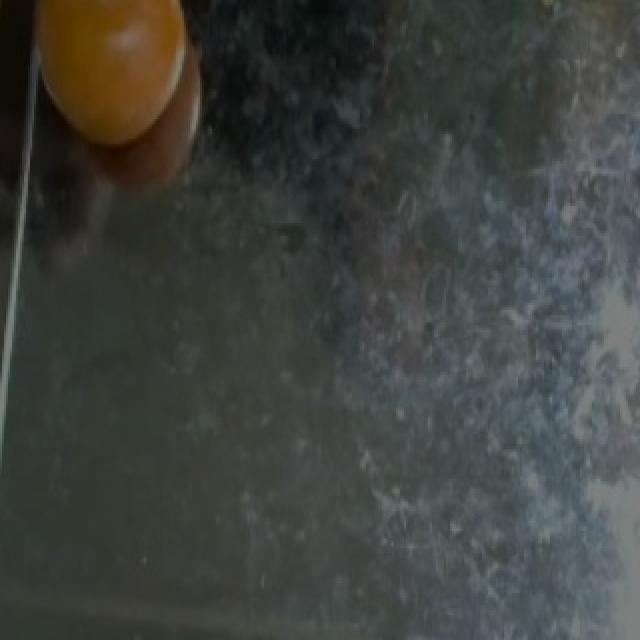Fruit: (30, 2, 216, 164)
